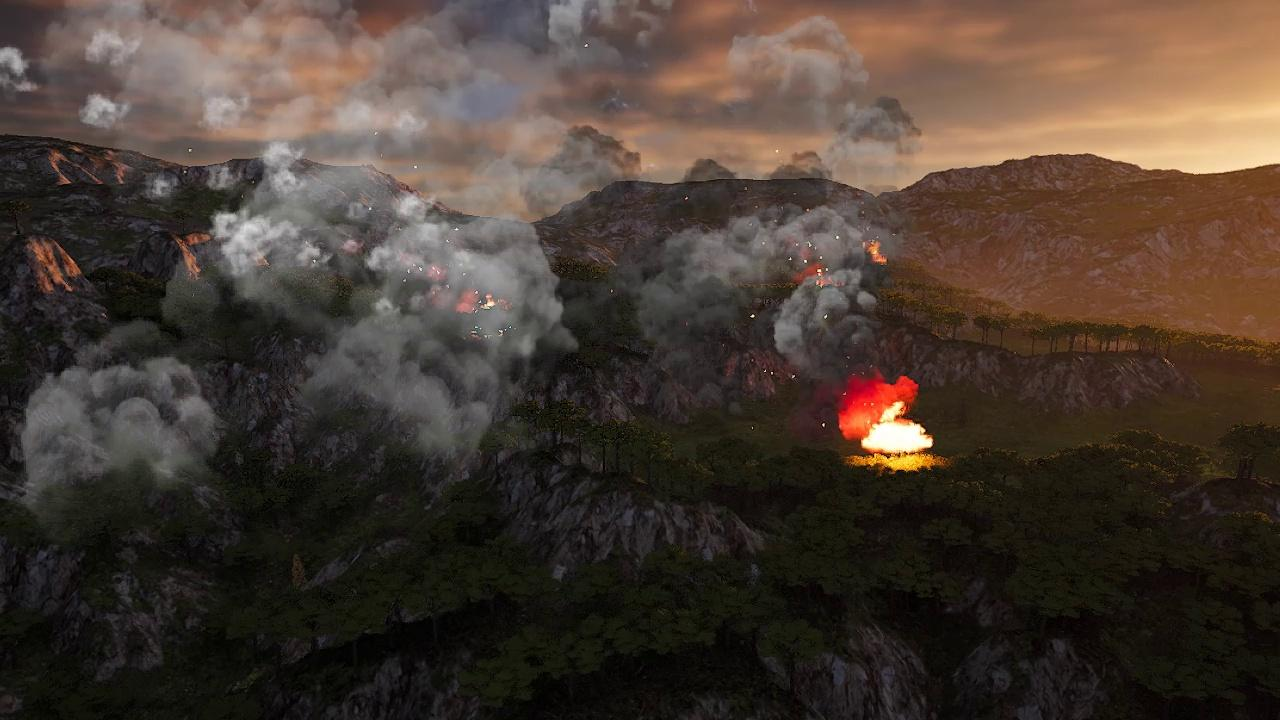fire: (846, 402, 938, 456), (456, 285, 496, 311), (867, 238, 891, 272)
smoke: (0, 7, 926, 538)
